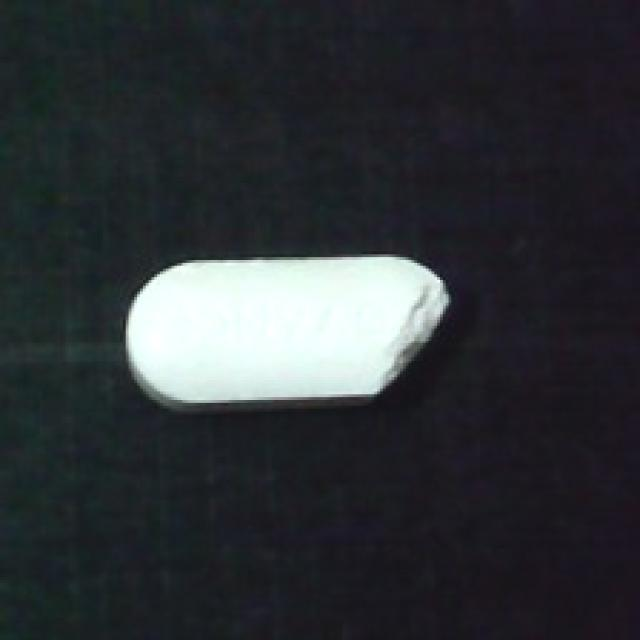defected: (120, 251, 457, 420)
